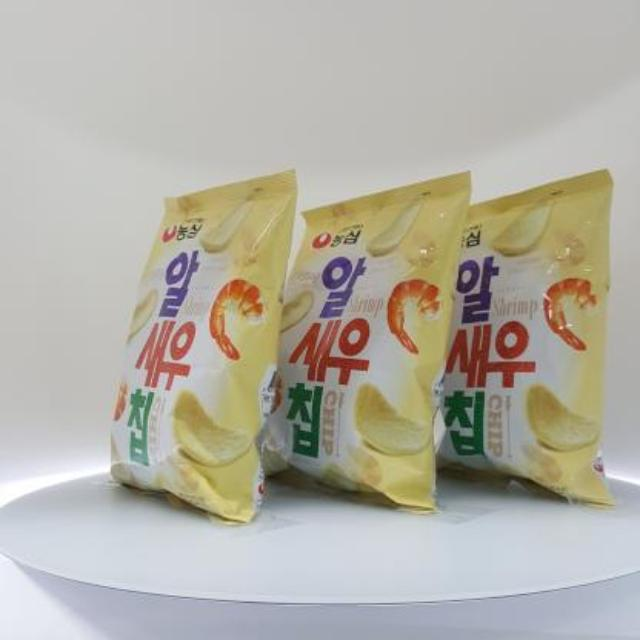snack_bag: (96, 155, 628, 545)
